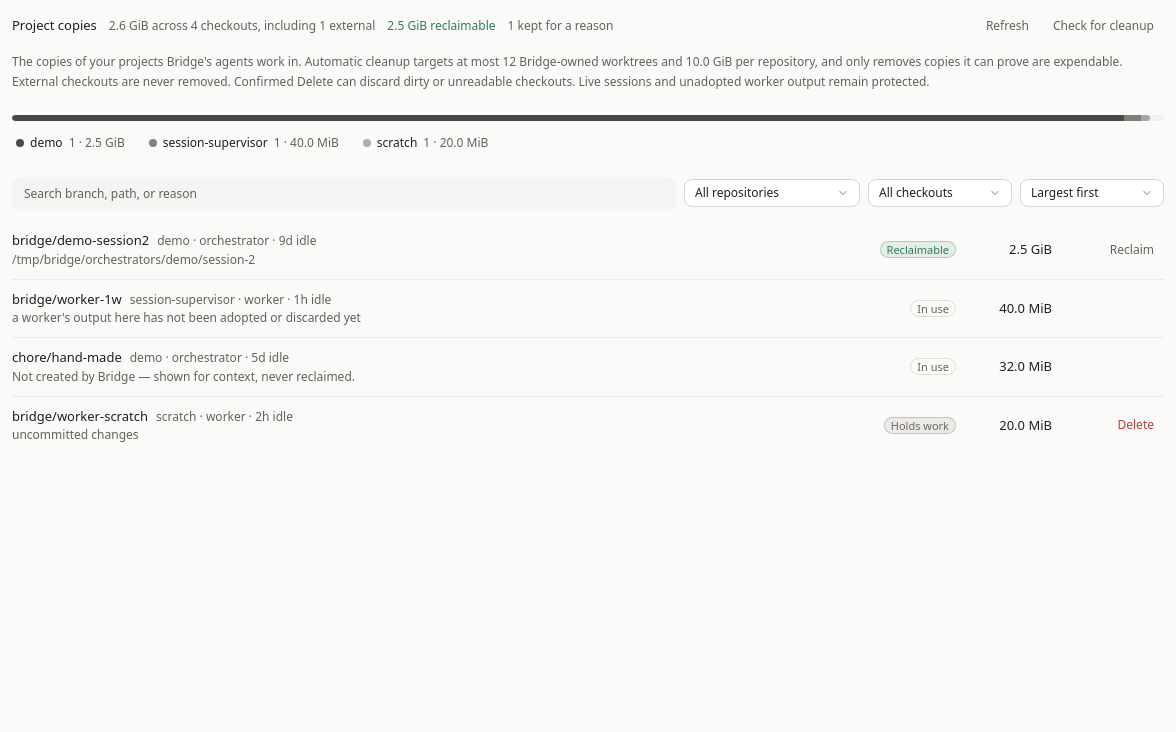
Test case: reports what a reclaim freed and drops the row
Click the button "Reclaim" at (1132, 250), box [1100,236,1164,264]
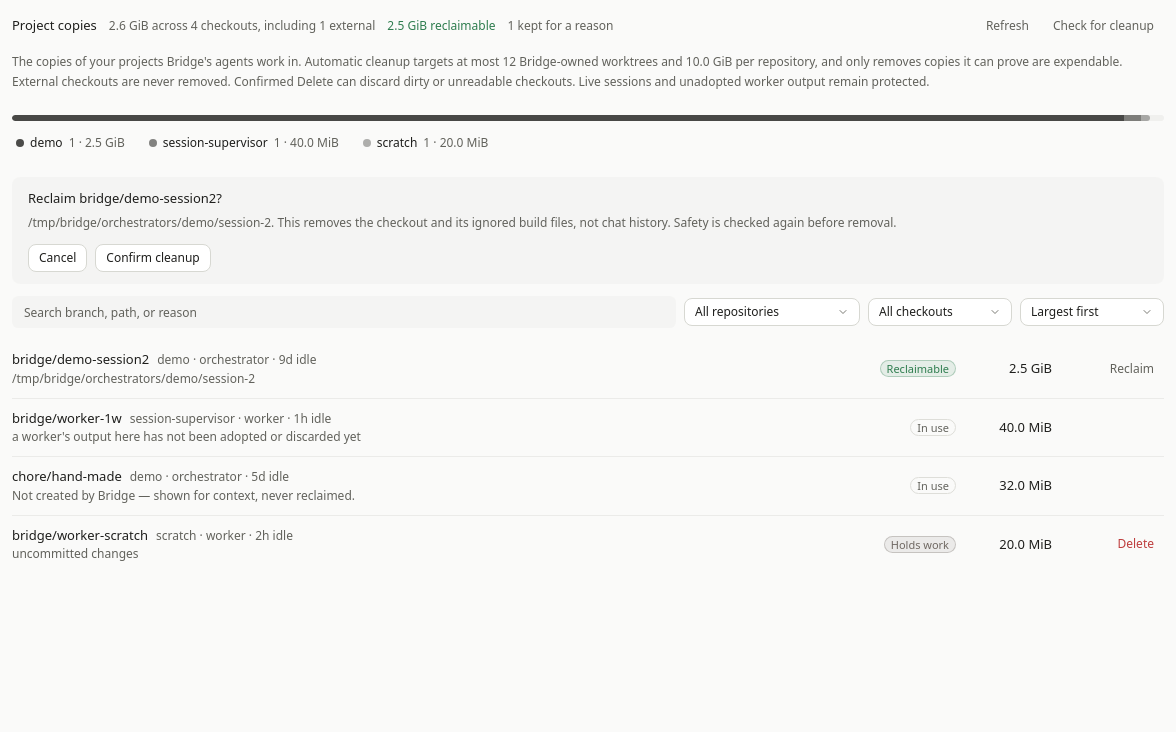
Check: the text "Confirm cleanup" is shown
Click the button "Confirm cleanup" at (153, 258), box [95,244,211,272]
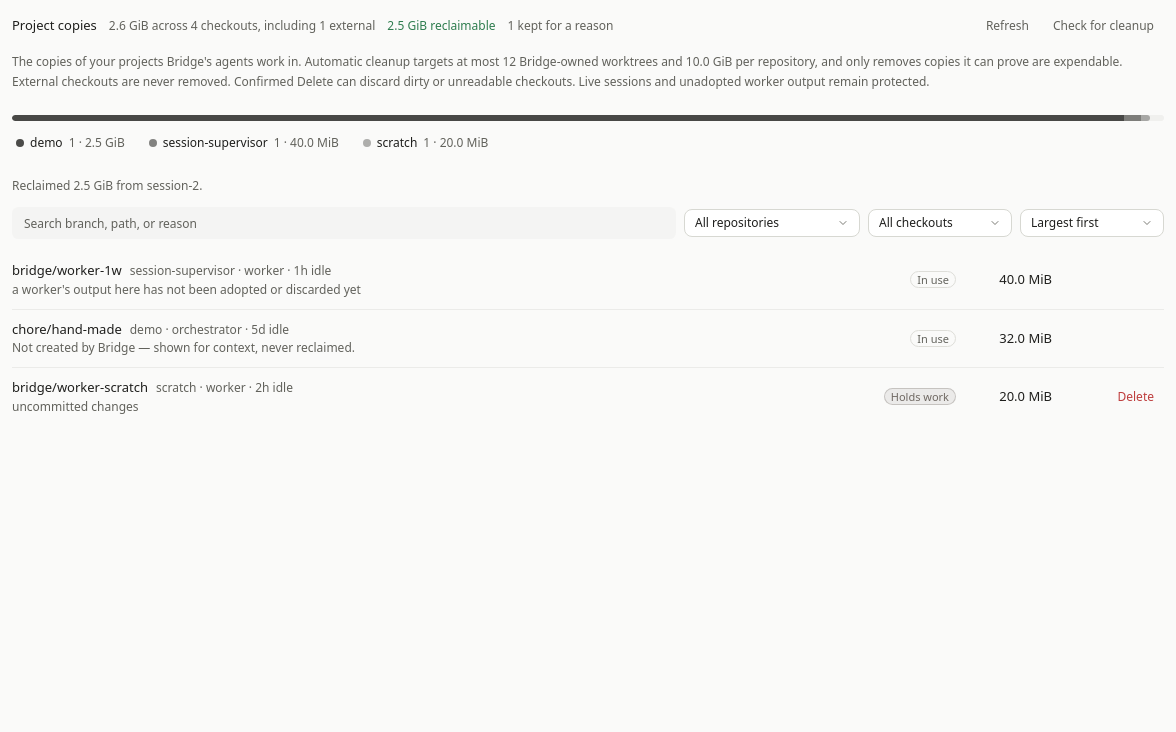
Check: the text "Reclaimed 2.5 GiB" is shown, box [12,177,202,194]
Check: the text "bridge/demo-session2" is gone
